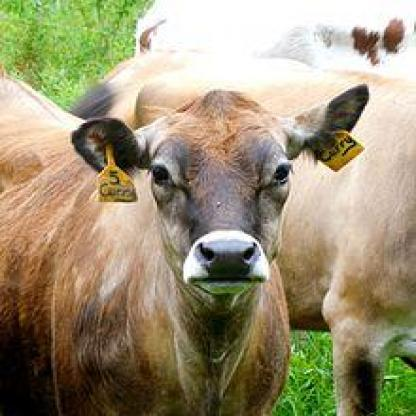cow: (0, 84, 369, 416)
